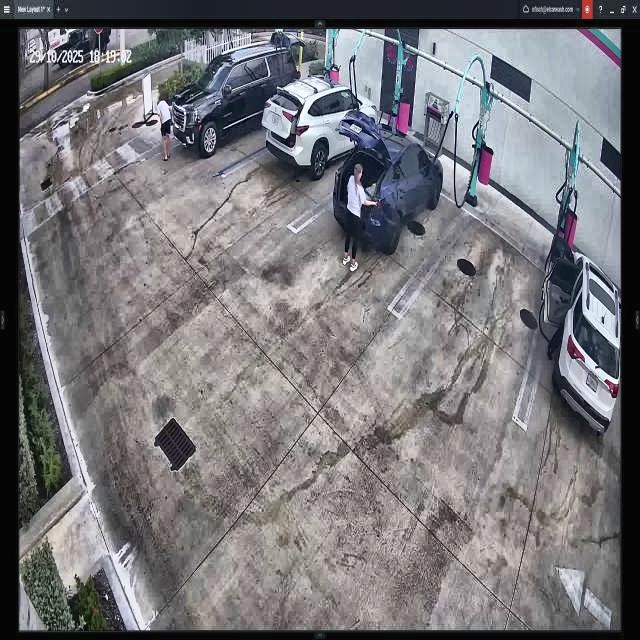Car: (334, 115, 442, 258), (174, 49, 298, 156), (264, 74, 377, 177)
